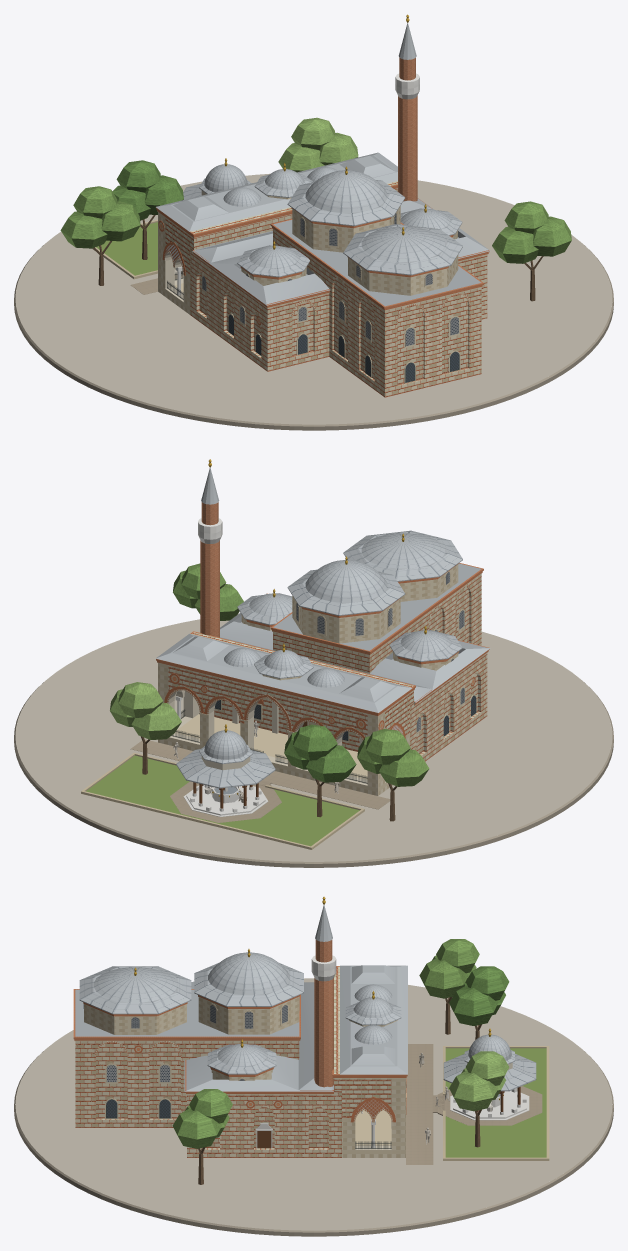
File: orhan-bey-camii_v07_sunum.glb
3 views of the same model, one above another, from view 1: azimuth 30°, elevation 25°; view 2: azimuth 150°, elevation 25°; view 3: azimuth 270°, elevation 25° (orthographic).
Parts seen in each view (by area): view 1: Zemin_Kaide, Cami_Govde, Cami_Mihrap, Kubbe_Mihrap, Kubbe_Ana, Kubbe_SonCemaat, Cevre_Agac_01, Cevre_Agac_04, Minare_1, Cevre_Agac_02, Cevre_Agac_03, Cevre_Doseme (+5 smaller); view 2: Zemin_Kaide, Cami_Govde, Cevre_Doseme, Cami_SonCemaat, Kubbe_SonCemaat, Kubbe_Ana, Sadirvan, Kubbe_Mihrap, Cami_Mihrap, Minare_1, Cevre_Agac_03, Cevre_Agac_04 (+6 smaller); view 3: Zemin_Kaide, Cami_Govde, Cevre_Doseme, Cami_Mihrap, Kubbe_SonCemaat, Kubbe_Ana, Kubbe_Mihrap, Cami_SonCemaat, Sadirvan, Minare_1, Cevre_Agac_02, Cevre_Agac_03 (+5 smaller).
Boxes of the visible parts, left/top/right/bottom form: Zemin_Kaide: left=14, top=173, right=613, bottom=430; Cami_Govde: left=156, top=163, right=490, bottom=383; Cami_Mihrap: left=323, top=255, right=481, bottom=397; Kubbe_Mihrap: left=343, top=224, right=462, bottom=295; Kubbe_Ana: left=287, top=170, right=405, bottom=252; Kubbe_SonCemaat: left=156, top=152, right=397, bottom=231; Cevre_Agac_01: left=492, top=201, right=571, bottom=263; Cevre_Agac_04: left=60, top=186, right=140, bottom=248; Minare_1: left=395, top=14, right=419, bottom=201; Cevre_Agac_02: left=278, top=117, right=358, bottom=172; Cevre_Agac_03: left=112, top=160, right=183, bottom=220; Cevre_Doseme: left=92, top=219, right=183, bottom=294; Zemin_Kaide: left=14, top=613, right=613, bottom=867; Cami_Govde: left=156, top=533, right=490, bottom=779; Cevre_Doseme: left=81, top=739, right=390, bottom=849; Cami_SonCemaat: left=158, top=663, right=409, bottom=795; Kubbe_SonCemaat: left=156, top=633, right=412, bottom=712; Kubbe_Ana: left=287, top=560, right=405, bottom=643; Sadirvan: left=176, top=724, right=275, bottom=816; Kubbe_Mihrap: left=343, top=530, right=462, bottom=601; Cami_Mihrap: left=400, top=563, right=481, bottom=645; Minare_1: left=198, top=459, right=222, bottom=637; Cevre_Agac_03: left=284, top=724, right=356, bottom=782; Cevre_Agac_04: left=357, top=729, right=429, bottom=786; Zemin_Kaide: left=14, top=978, right=613, bottom=1236; Cami_Govde: left=73, top=949, right=407, bottom=1157; Cevre_Doseme: left=406, top=1044, right=549, bottom=1164; Cami_Mihrap: left=75, top=989, right=198, bottom=1127; Kubbe_SonCemaat: left=340, top=965, right=407, bottom=1074; Kubbe_Ana: left=194, top=952, right=303, bottom=1034; Kubbe_Mihrap: left=79, top=966, right=191, bottom=1034; Cami_SonCemaat: left=342, top=1078, right=405, bottom=1157; Sadirvan: left=443, top=1028, right=536, bottom=1120; Minare_1: left=311, top=896, right=336, bottom=1087; Cevre_Agac_02: left=449, top=1051, right=509, bottom=1111; Cevre_Agac_03: left=449, top=966, right=509, bottom=1025.
Size of the model in its own units: 60.76 by 29.25 by 60.76.
29 materials, 17 textured.
